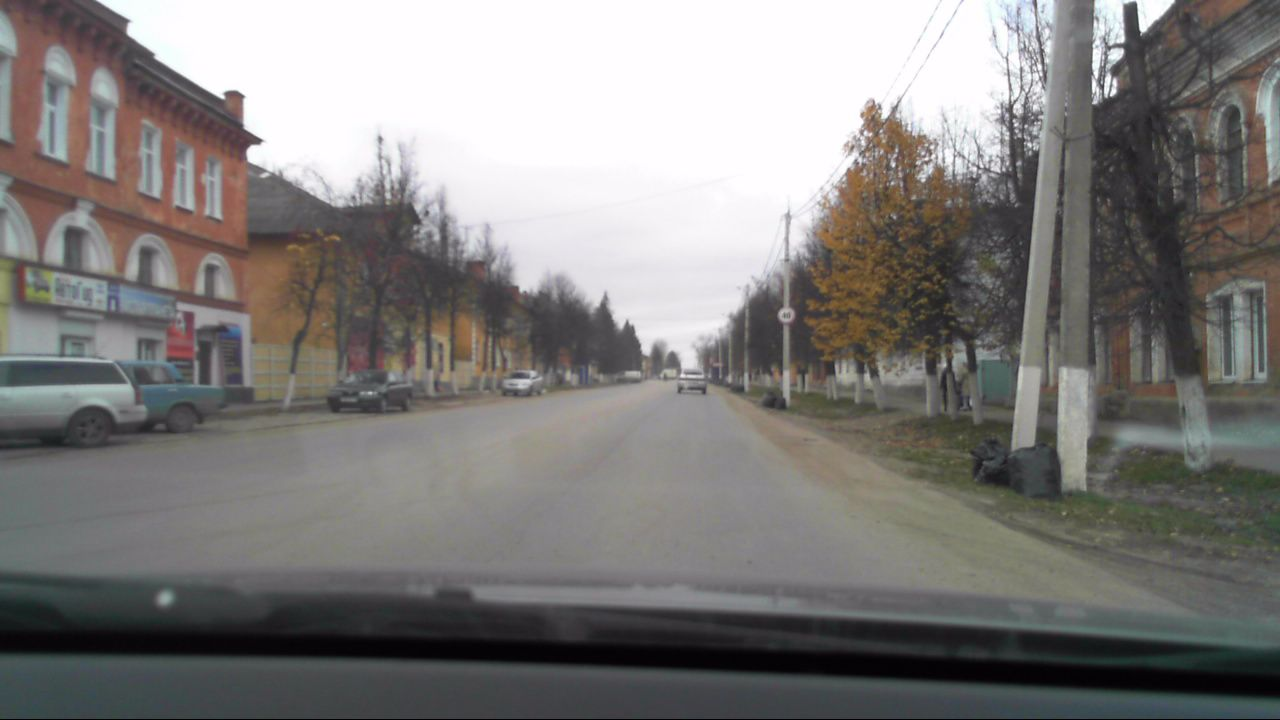speed_warning_40: (775, 305, 797, 327)
